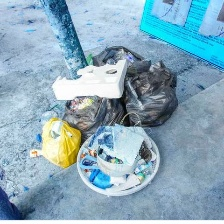bottle: (28, 146, 43, 158)
plastic_bag: (119, 58, 181, 129), (57, 94, 128, 148), (88, 42, 151, 80), (39, 118, 80, 170)
